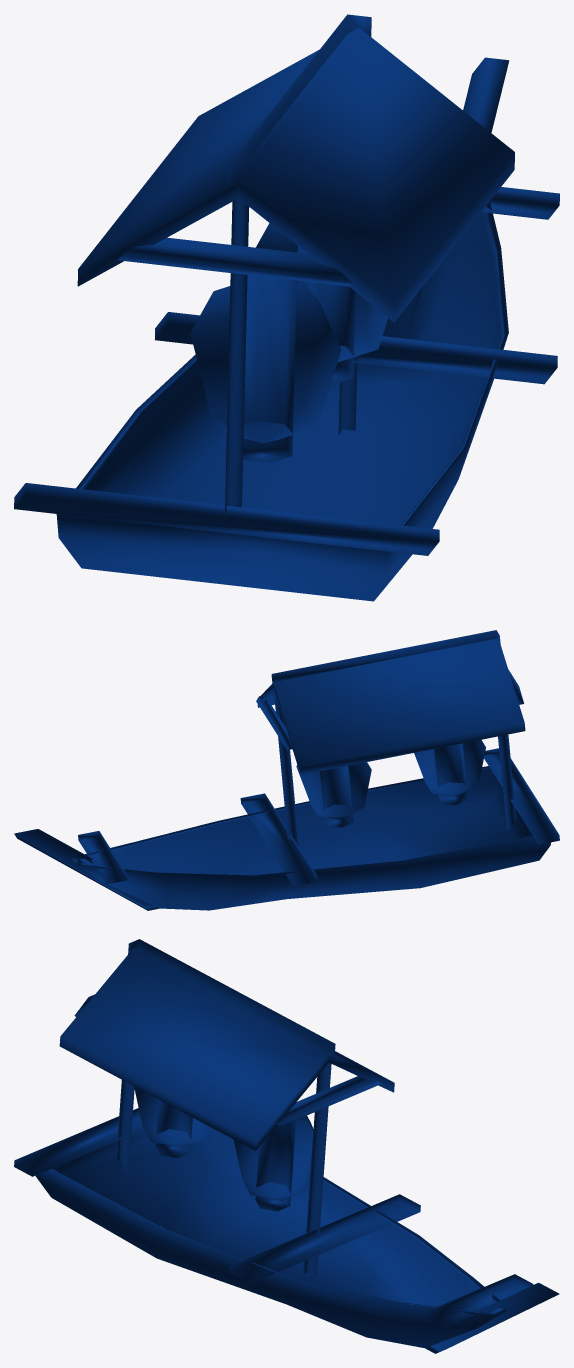
File: yomi.ico.obj
3 renders of one model, top to bottom at view 1: azimuth 30°, elevation 25°; view 2: azimuth 150°, elevation 25°; view 3: azimuth 270°, elevation 25°, orthographic. The views are drawn at different scales.
Size of the model in its own units: 4.72 by 2.68 by 4.72.
1 material, 1 textured.
